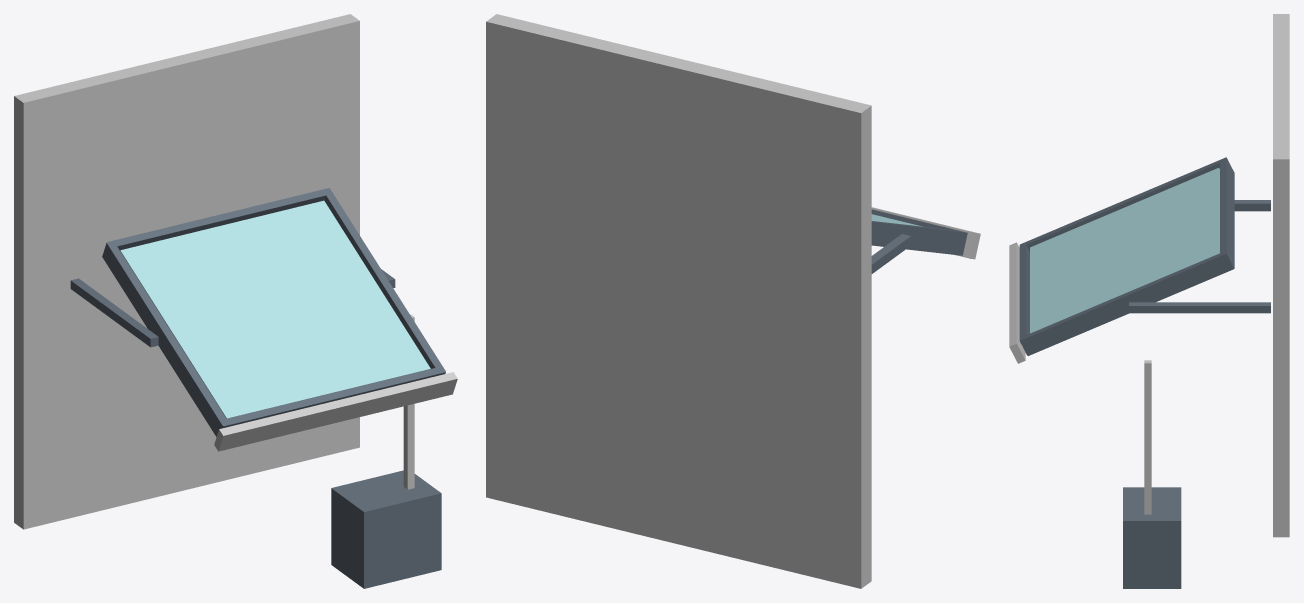
The model's file is facade-dew.obj.
3 views of the same model, side by side, from view 1: azimuth 30°, elevation 25°; view 2: azimuth 150°, elevation 25°; view 3: azimuth 270°, elevation 25° (orthographic). The views are drawn at different scales.
Parts seen in each view (by area): view 1: facade_section, dew_face, tank_concept, side_frame, drain_channel_concept, edge_frame, standoff, drain_riser_concept; view 2: facade_section, side_frame, standoff, drain_channel_concept; view 3: dew_face, facade_section, side_frame, tank_concept, edge_frame, standoff, drain_channel_concept, drain_riser_concept.
Part boxes in pixels (x1,y1,x2,y2): facade_section: (14, 14, 359, 529); dew_face: (120, 200, 430, 418); tank_concept: (331, 470, 441, 588); side_frame: (102, 188, 445, 436); drain_channel_concept: (214, 372, 457, 451); edge_frame: (107, 188, 445, 427); standoff: (70, 269, 395, 347); drain_riser_concept: (403, 314, 414, 489); facade_section: (486, 14, 871, 588); side_frame: (871, 221, 967, 255); standoff: (871, 234, 910, 273); drain_channel_concept: (871, 207, 980, 259); dew_face: (1030, 168, 1219, 333); facade_section: (1273, 14, 1289, 537); side_frame: (1020, 157, 1233, 355); tank_concept: (1123, 487, 1181, 588); edge_frame: (1019, 157, 1234, 355); standoff: (1129, 200, 1270, 313); drain_channel_concept: (1009, 242, 1025, 363); drain_riser_concept: (1144, 360, 1151, 514).
Bounding box in the file's own units: 1.65 × 2.28 × 1.34.
